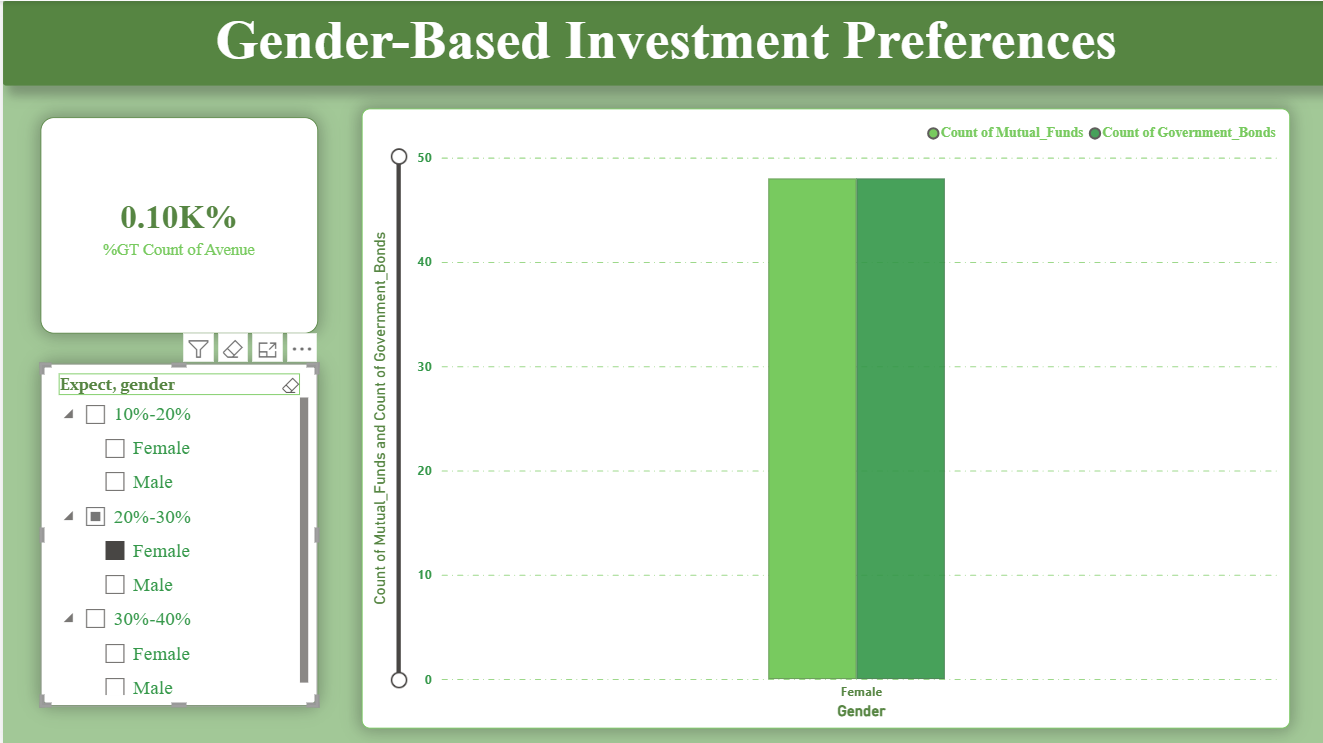

Layout of this report page (visuals, bound fields, positions):
{"tool":"powerbi","page":{"name":"Page 2","canvas":[1280,720],"ordinal":1},"visuals":[{"type":"textbox","box":[0,0,1280.3,81.9],"z":0},{"type":"clusteredColumnChart","fields":{"Category":["Data_set 2.gender"],"Y":["CountNonNull(Data_set 2.Mutual_Funds)","CountNonNull(Data_set 2.Government_Bonds)"]},"box":[346.2,103.8,896.4,598.4],"z":1000},{"type":"card","fields":{"Values":["Min(Data_set 2.Avenue)"]},"box":[36.2,112.2,267.8,208.7],"z":2000},{"type":"slicer","fields":{"Values":["Data_set 2.Expect","Data_set 2.gender"]},"box":[36.2,349.9,267.8,330.6],"z":3000}]}

Visuals, with their boxes in screenshot pixels (x1, y1, x2, y2), scaled from the page's 1280x720 canvas onto the 1323x743 screenshot:
textbox: (x1=0, y1=0, x2=1322, y2=85)
clusteredColumnChart - Data_set 2.gender x CountNonNull(Data_set 2.Mutual_Funds): (x1=358, y1=107, x2=1284, y2=725)
card - Min(Data_set 2.Avenue): (x1=37, y1=116, x2=314, y2=331)
slicer - Data_set 2.Expect x Data_set 2.gender: (x1=37, y1=361, x2=314, y2=702)
